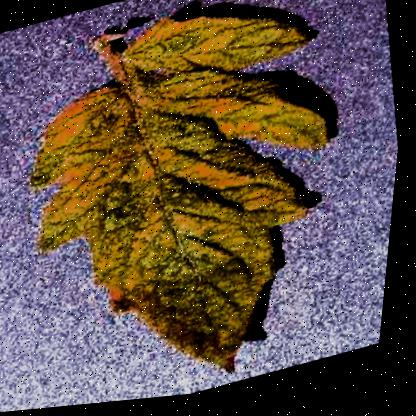Virus: (0, 0, 396, 414)
